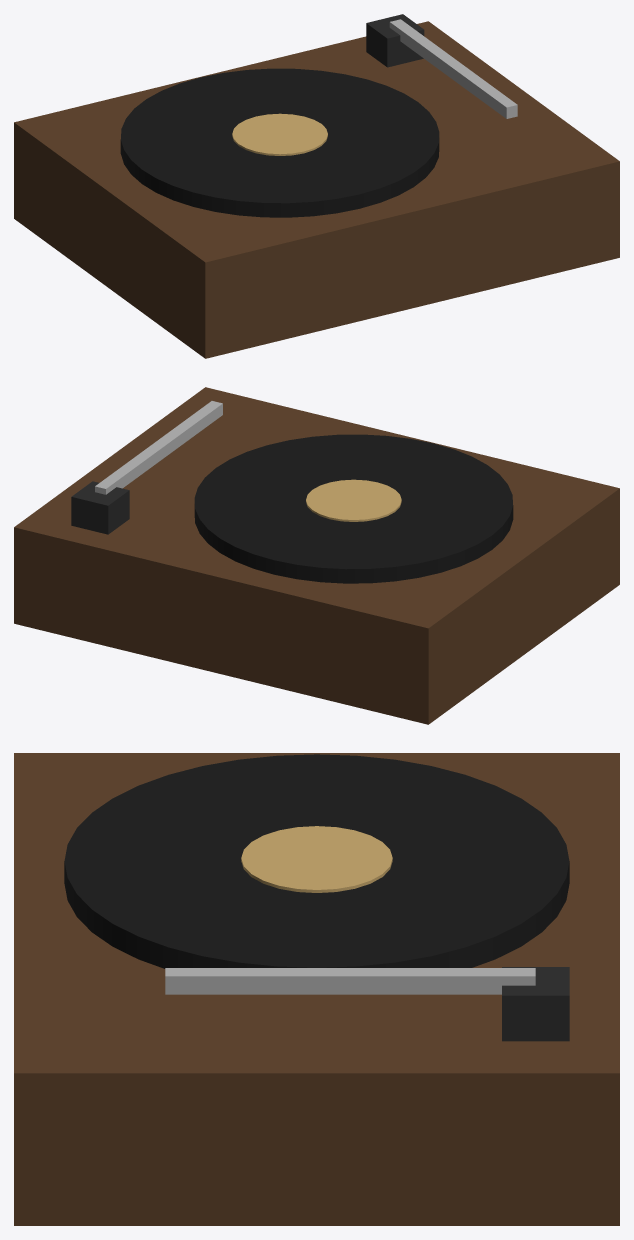
Rendered from recordplayer.glb.
3 renders of one model, top to bottom at view 1: azimuth 30°, elevation 25°; view 2: azimuth 150°, elevation 25°; view 3: azimuth 270°, elevation 25°, orthographic. The views are drawn at different scales.
Size of the model in its own units: 0.45 by 0.136 by 0.36.
